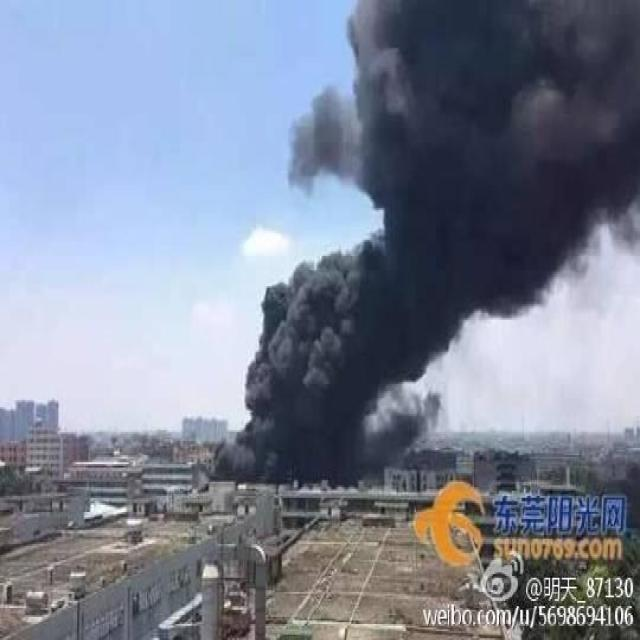Smoke: (206, 2, 640, 489)
